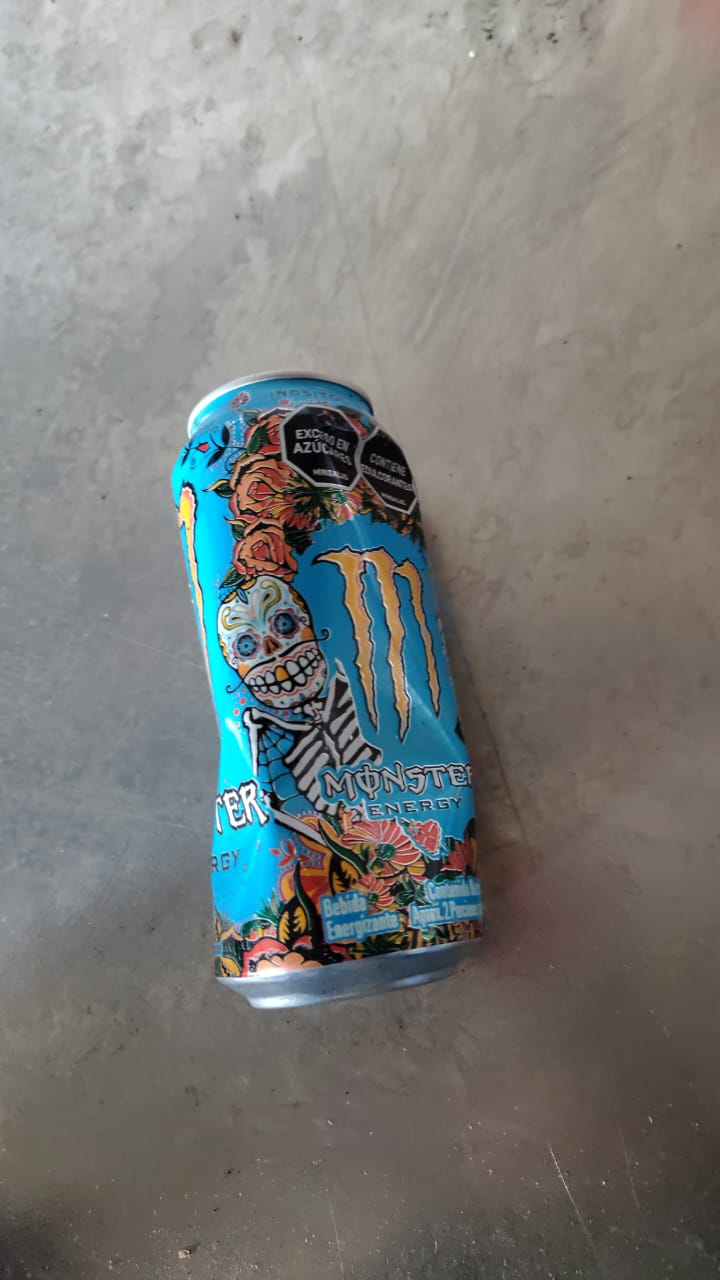Metal: (170, 373, 482, 1012)
